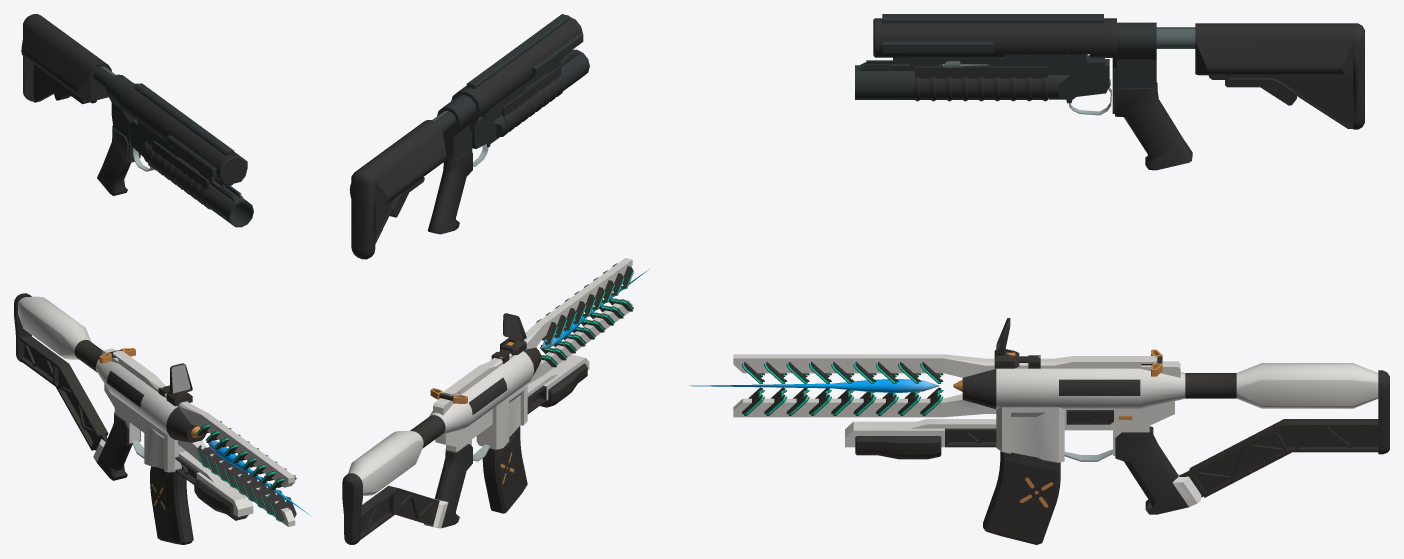
Rendered from JetpacksAndMissiles_Weapons.fbx.
3 renders of one model, left to right at view 1: azimuth 30°, elevation 25°; view 2: azimuth 150°, elevation 25°; view 3: azimuth 270°, elevation 25°, orthographic. The views are drawn at different scales.
Visible parts, largest first — view 1: Jetpacks_AssaultRifle, Jetpacks_Launcher, Jetpacks_GLForegrip, Jetpacks_ARMagazine, Jetpacks_MuzzleFlash; view 2: Jetpacks_AssaultRifle, Jetpacks_Launcher, Jetpacks_GLForegrip, Jetpacks_ARMagazine; view 3: Jetpacks_AssaultRifle, Jetpacks_Launcher, Jetpacks_GLForegrip, Jetpacks_ARMagazine, Jetpacks_MuzzleFlash.
Part boxes in pixels (bbox=[...]): Jetpacks_AssaultRifle: bbox=[14, 293, 296, 526]; Jetpacks_Launcher: bbox=[21, 14, 247, 195]; Jetpacks_GLForegrip: bbox=[149, 140, 253, 227]; Jetpacks_ARMagazine: bbox=[150, 466, 193, 544]; Jetpacks_MuzzleFlash: bbox=[208, 440, 311, 516]; Jetpacks_AssaultRifle: bbox=[342, 258, 633, 544]; Jetpacks_Launcher: bbox=[349, 14, 583, 259]; Jetpacks_GLForegrip: bbox=[501, 49, 589, 136]; Jetpacks_ARMagazine: bbox=[482, 426, 527, 513]; Jetpacks_AssaultRifle: bbox=[733, 318, 1389, 514]; Jetpacks_Launcher: bbox=[873, 14, 1364, 170]; Jetpacks_GLForegrip: bbox=[855, 60, 1048, 101]; Jetpacks_ARMagazine: bbox=[983, 451, 1060, 544]; Jetpacks_MuzzleFlash: bbox=[689, 379, 939, 392].
Bounding box in the file's own units: 7.01 × 78.14 × 95.52.
